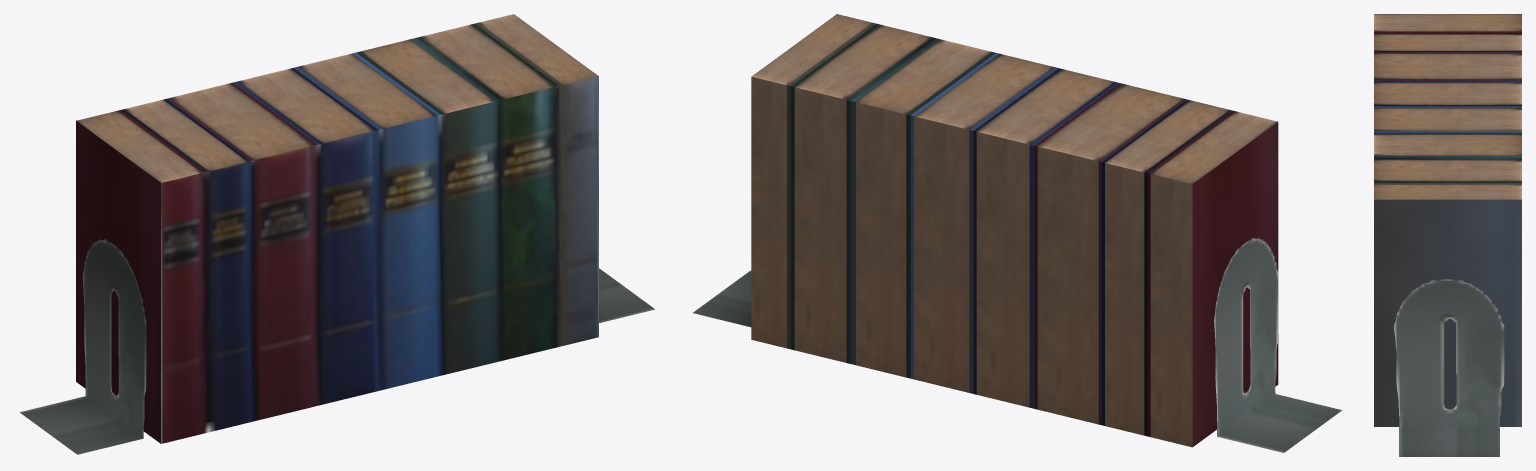
File: law_books.FBX
The picture shows the model from 3 angles, left to right: view 1: azimuth 30°, elevation 25°; view 2: azimuth 150°, elevation 25°; view 3: azimuth 270°, elevation 25°; orthographic projection. The views are drawn at different scales.
Visible parts, largest first — view 1: law_books; view 2: law_books; view 3: law_books.
Part boxes in pixels (left/top/right/bottom): law_books: left=20, top=14, right=654, bottom=454; law_books: left=693, top=14, right=1342, bottom=452; law_books: left=1374, top=14, right=1521, bottom=456.
Bounding box in the file's own units: 56.31 × 24.12 × 14.22.
